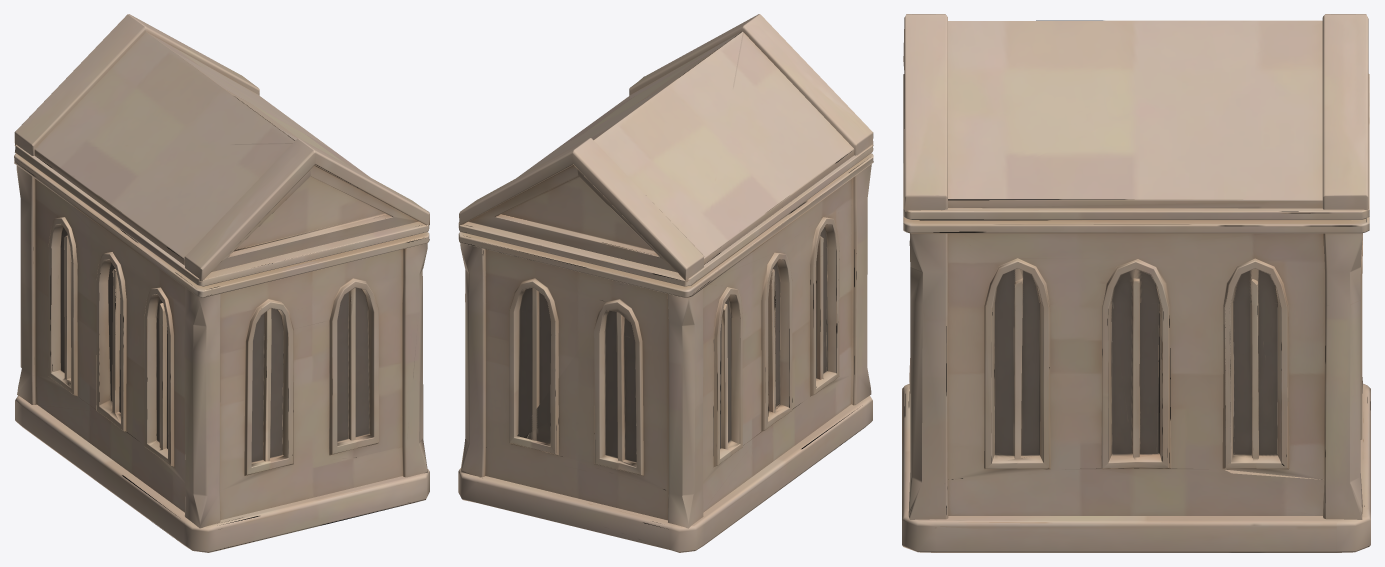
The model's file is 33-library.glb.
3 views of the same model, side by side, from view 1: azimuth 30°, elevation 25°; view 2: azimuth 150°, elevation 25°; view 3: azimuth 270°, elevation 25° (orthographic). The views are drawn at different scales.
Visible parts, largest first — view 1: geometry_0; view 2: geometry_0; view 3: geometry_0.
Part boxes in pixels (<box>): geometry_0: <box>14,14,429,552</box>; geometry_0: <box>458,14,873,552</box>; geometry_0: <box>902,14,1370,552</box>.
Size of the model in its own units: 0.6318 by 0.9492 by 0.8657.
1 material, 1 textured.
